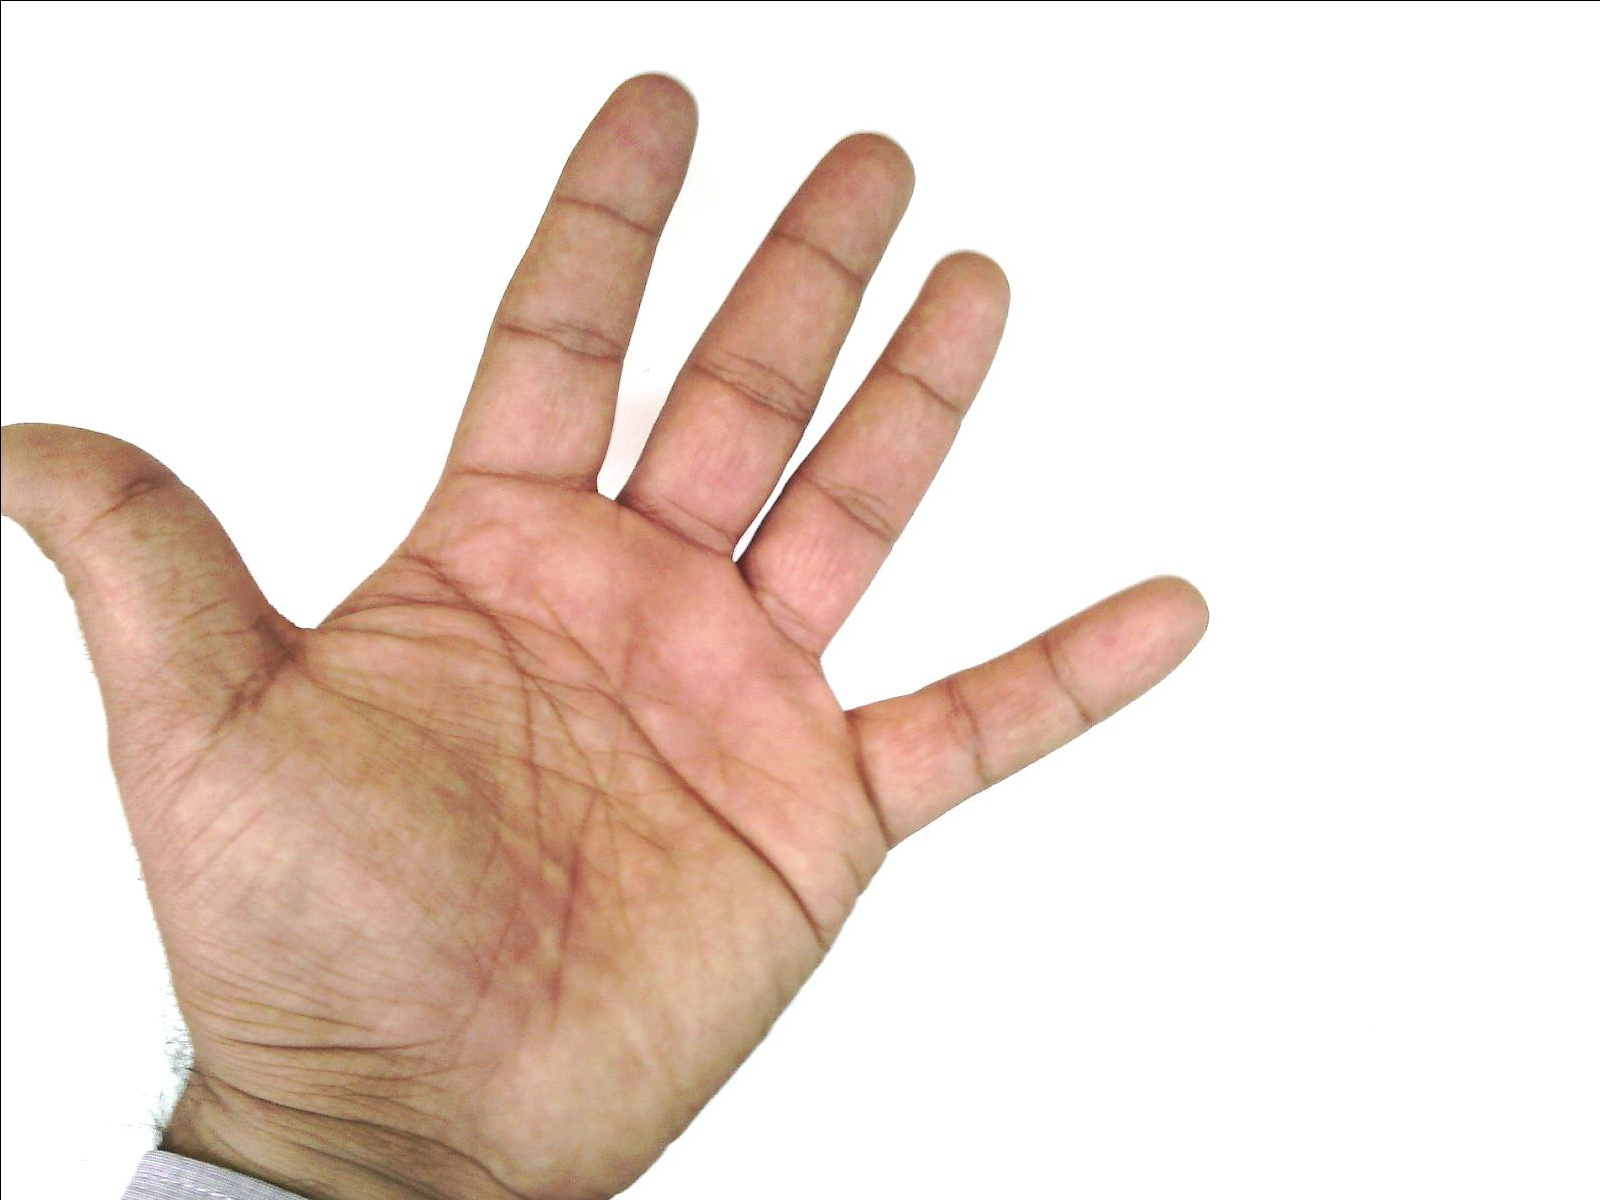5-hand: (3, 76, 1206, 1158)
